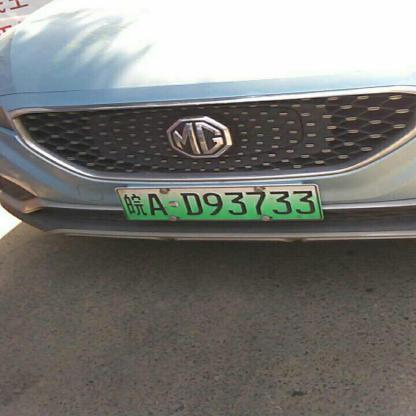lp: (117, 184, 321, 218)
